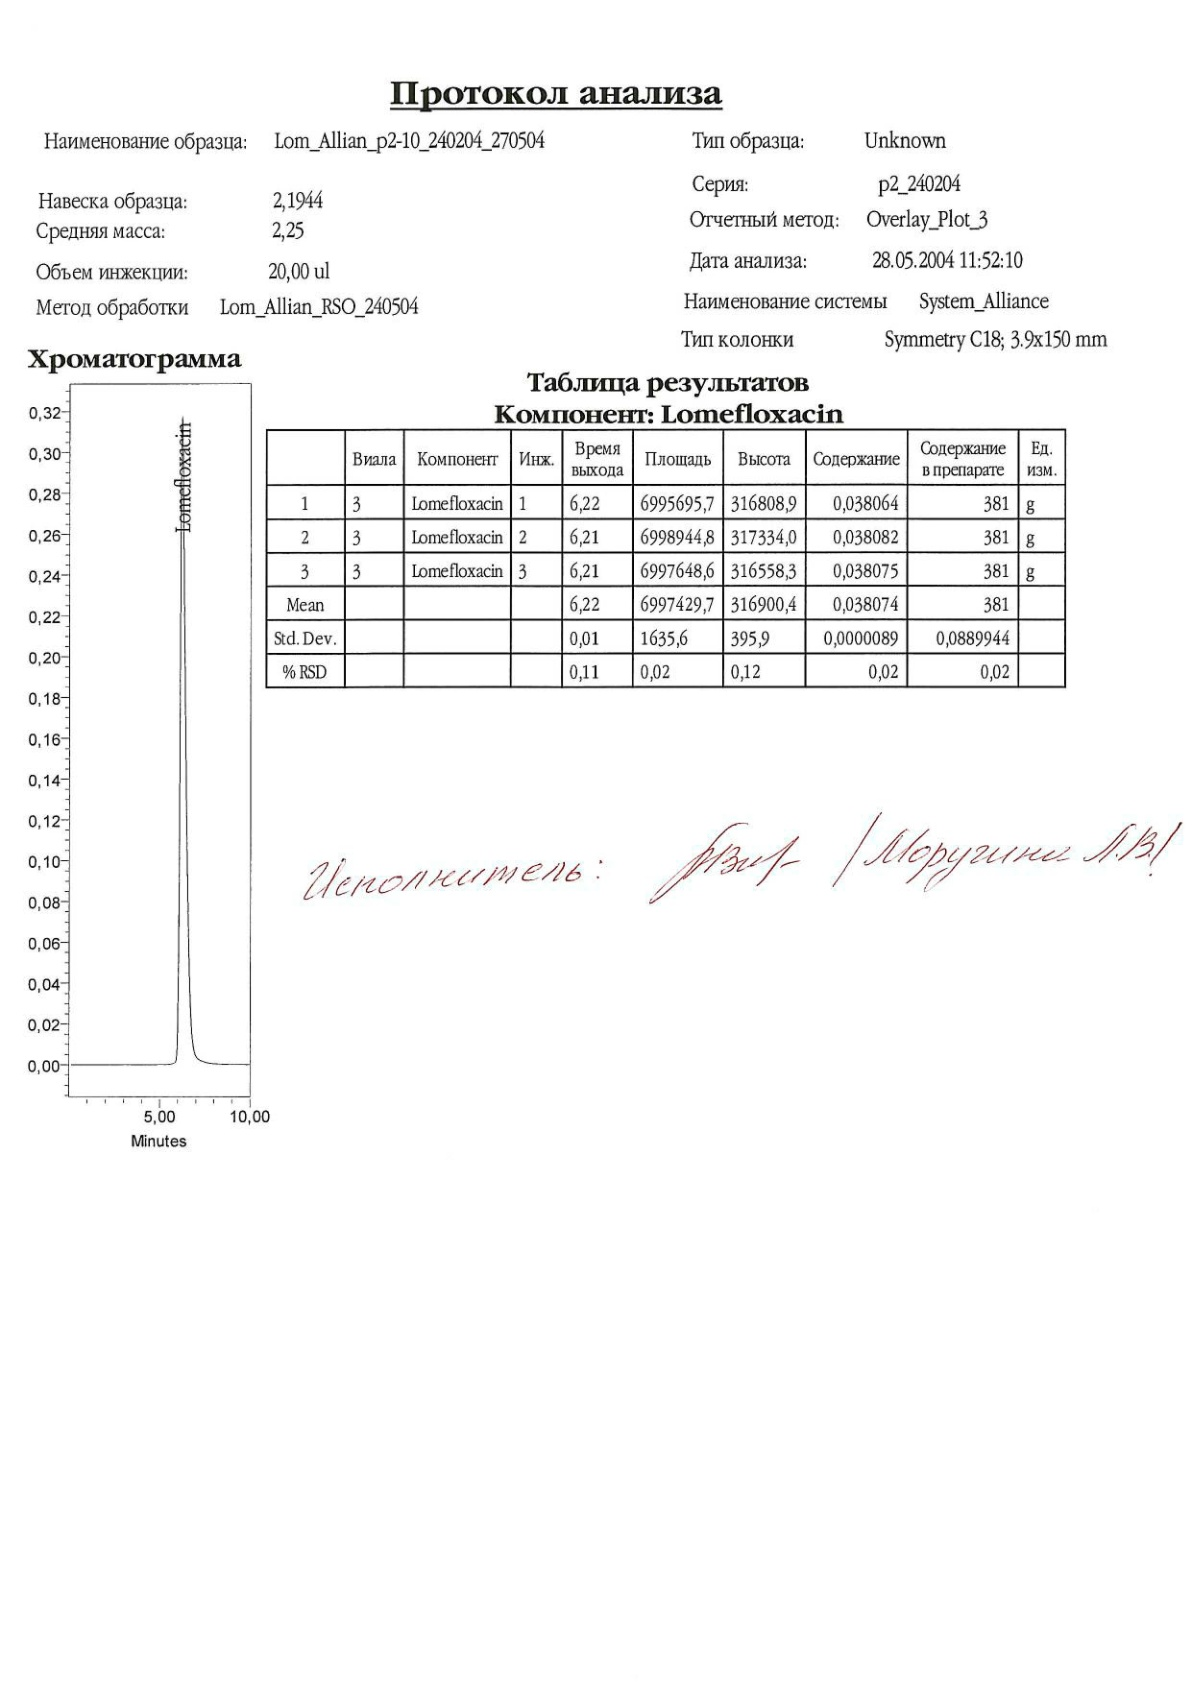full_lined: (264, 427, 1067, 690)
nolines: (32, 126, 1112, 352)
